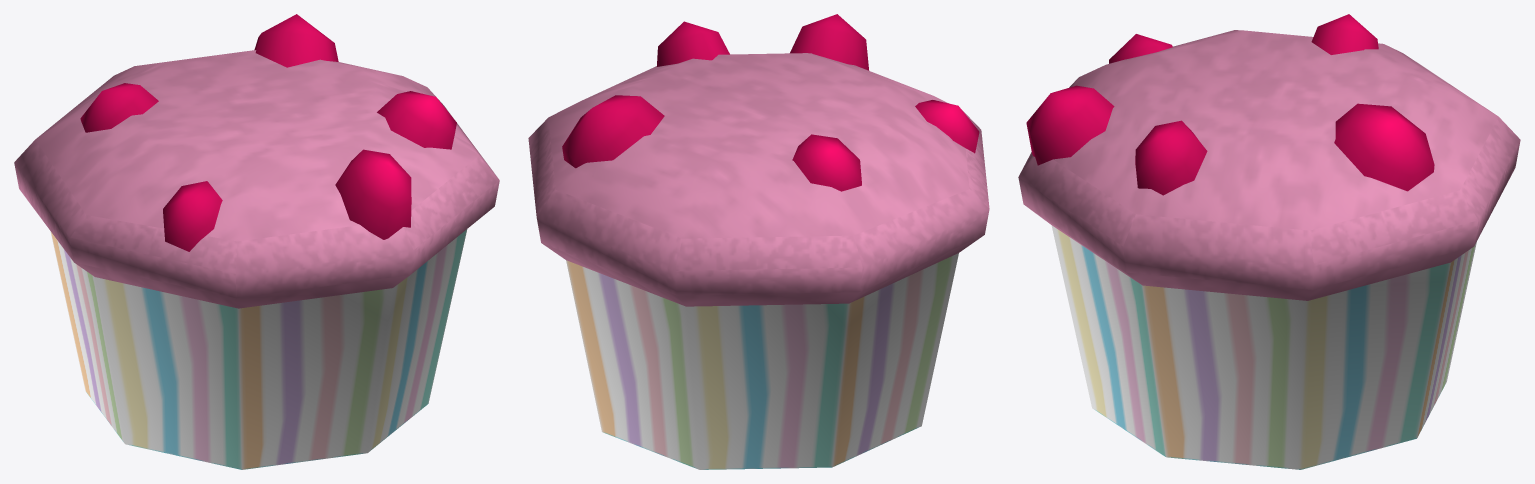
Rendered from Muffin_D_01.FBX.
3 views of the same model, side by side, from view 1: azimuth 30°, elevation 25°; view 2: azimuth 150°, elevation 25°; view 3: azimuth 270°, elevation 25° (orthographic). The views are drawn at different scales.
Parts seen in each view (by area): view 1: Muffin; view 2: Muffin; view 3: Muffin.
Part boxes in pixels (x1=…): Muffin: x1=14, y1=14, x2=499, y2=469; Muffin: x1=528, y1=14, x2=989, y2=469; Muffin: x1=1018, y1=14, x2=1520, y2=469.
Size of the model in its own units: 36.61 by 26.52 by 36.61.
